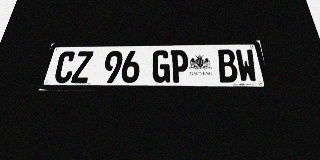6: (121, 50, 141, 83)
9: (102, 51, 123, 83)
B: (216, 49, 239, 83)
C: (53, 51, 77, 83)
G: (152, 50, 170, 83)
P: (171, 50, 189, 83)
W: (235, 49, 259, 82)
Z: (71, 51, 93, 83)
